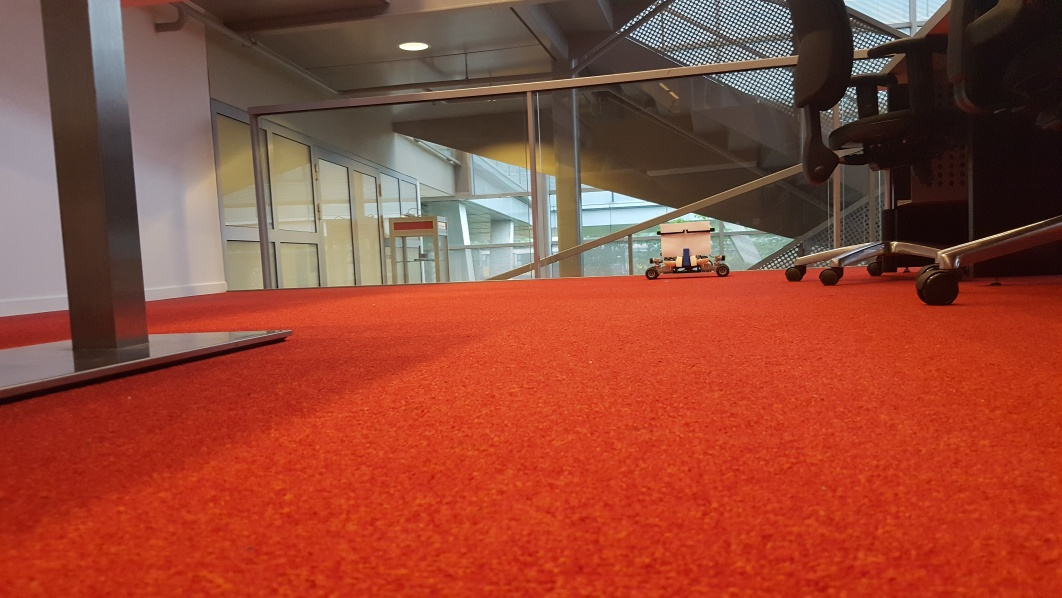car: (645, 221, 730, 279)
